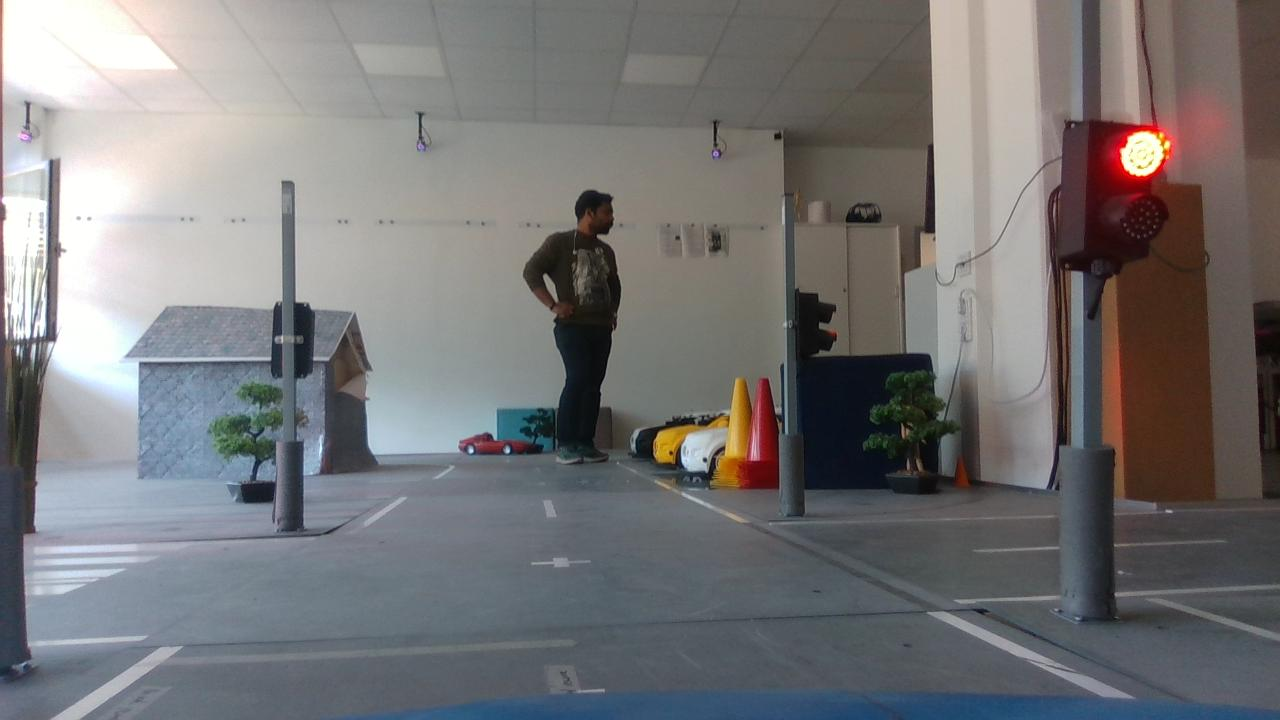traffic_light_red: (1042, 100, 1176, 288)
